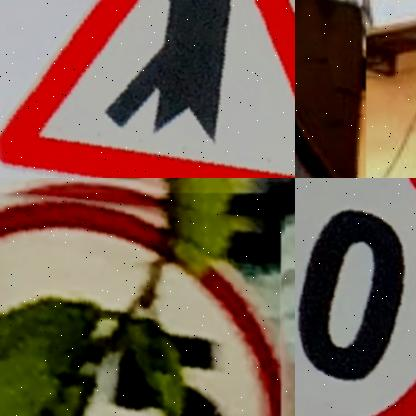Cross Roads: (0, 0, 295, 178)
Speed Limit (60 kmph): (295, 178, 416, 416)
Speed Limit -25 kmph-: (0, 193, 279, 416)
U-Turn: (295, 0, 362, 178)
